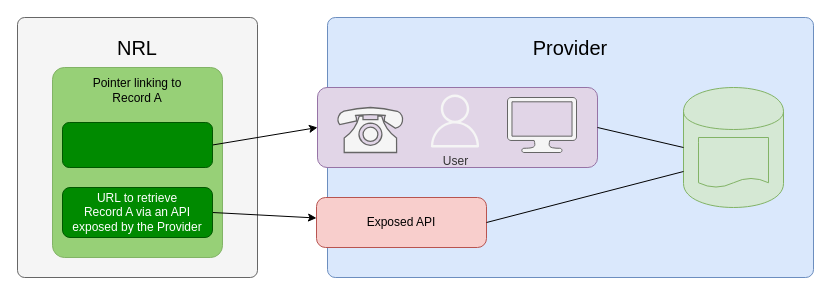
This 831x295 diagram has some shape labels left out. The shapes that lost their labels are listed below. From the top down, each one's centre as x and y in pixels, then its label:
the point at 137,145: URL to view "contact details" to retrieve Record A
the point at 733,162: Record A
